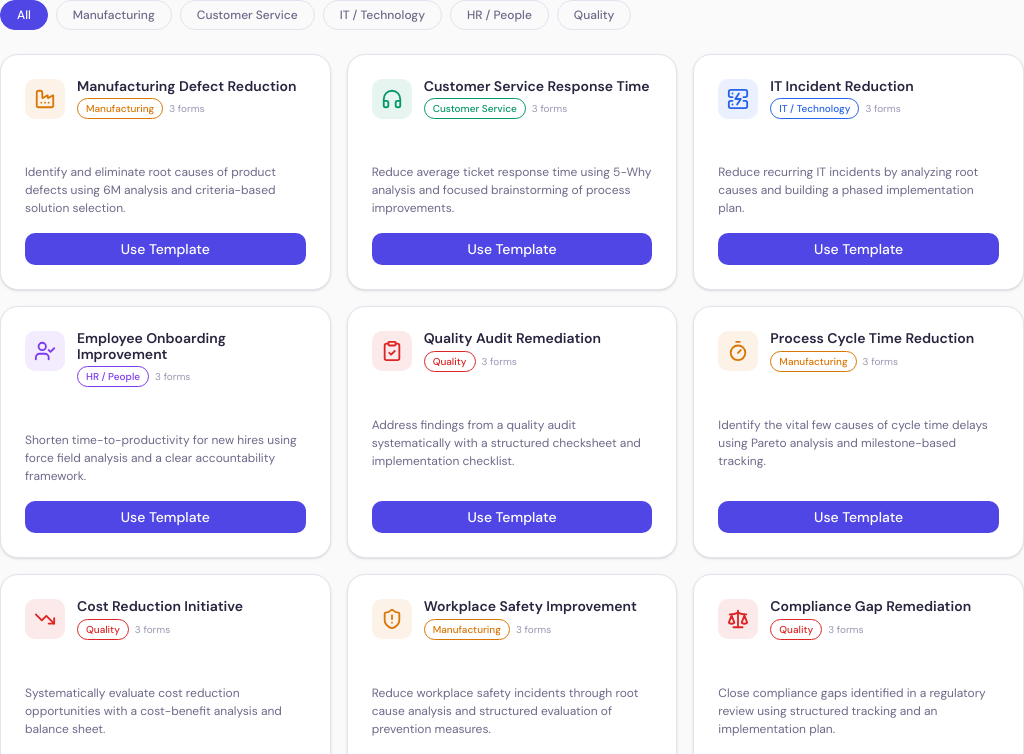
Test case: TemplateBrowser › opens the apply dialog when "Use Template" is clicked
Click the button "Use Template" below "Manufacturing Defect Reduction" at (165, 249), box top-left (25, 233), bottom-right (306, 265)
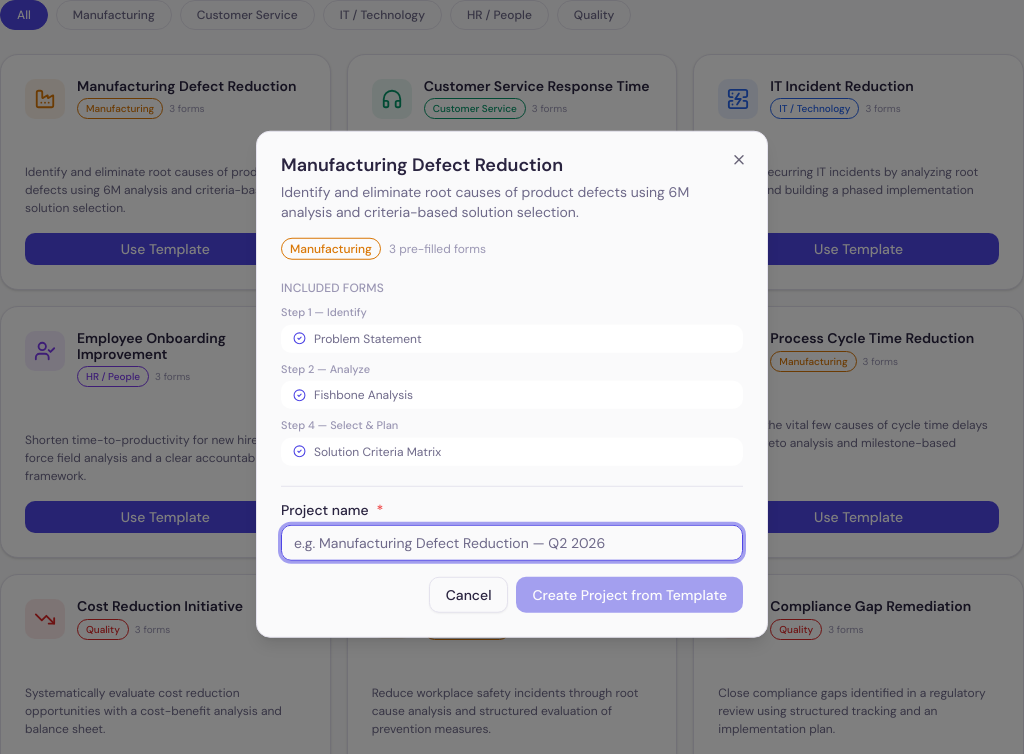
Result: the heading with test id "apply-dialog-title" reads "Manufacturing Defect Reduction" at top-left (281, 153), bottom-right (563, 177)
